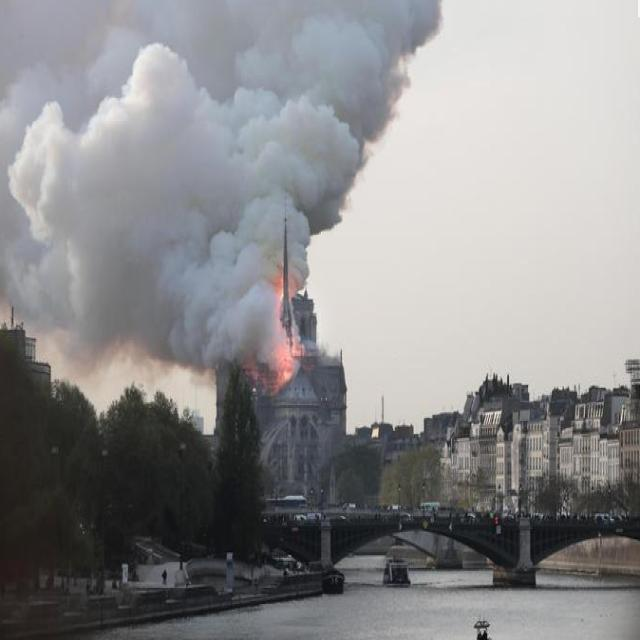Fire: (276, 338, 304, 384), (246, 361, 280, 392), (275, 260, 285, 332), (288, 274, 298, 301)
Smoke: (0, 0, 446, 385)
